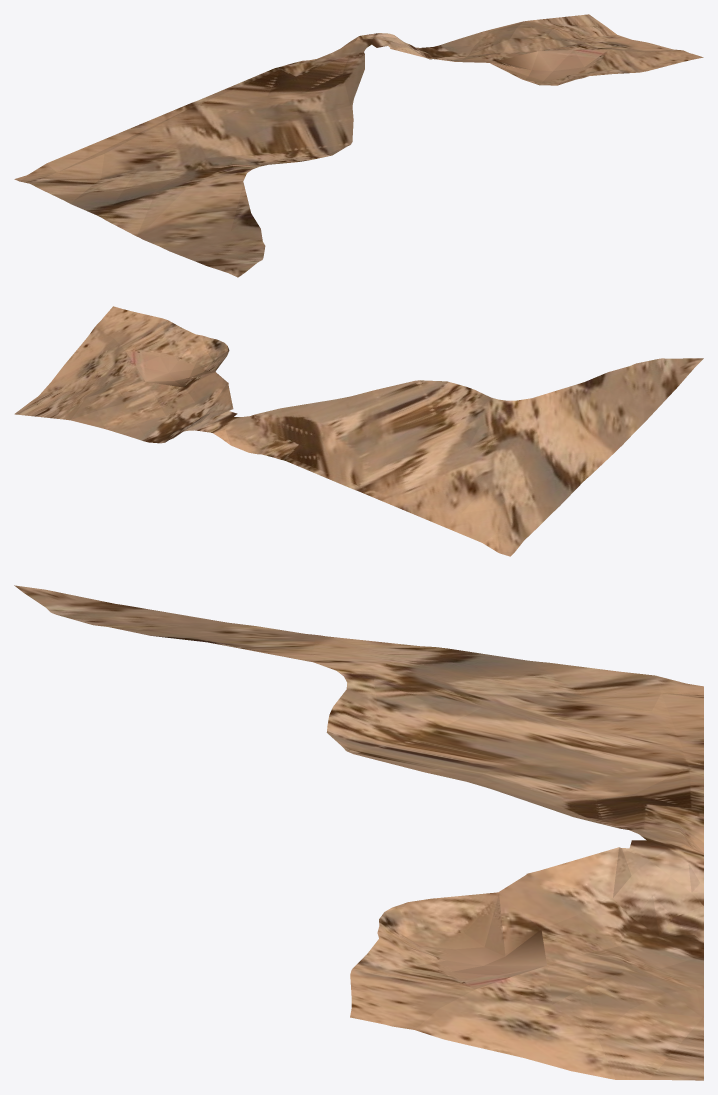
3 views of the same model, one above another, from view 1: azimuth 30°, elevation 25°; view 2: azimuth 150°, elevation 25°; view 3: azimuth 270°, elevation 25° (orthographic). The views are drawn at different scales.
Bounding box in the file's own units: 2.09 × 0.2277 × 1.41.
Materials: 1 (1 with a texture image).
